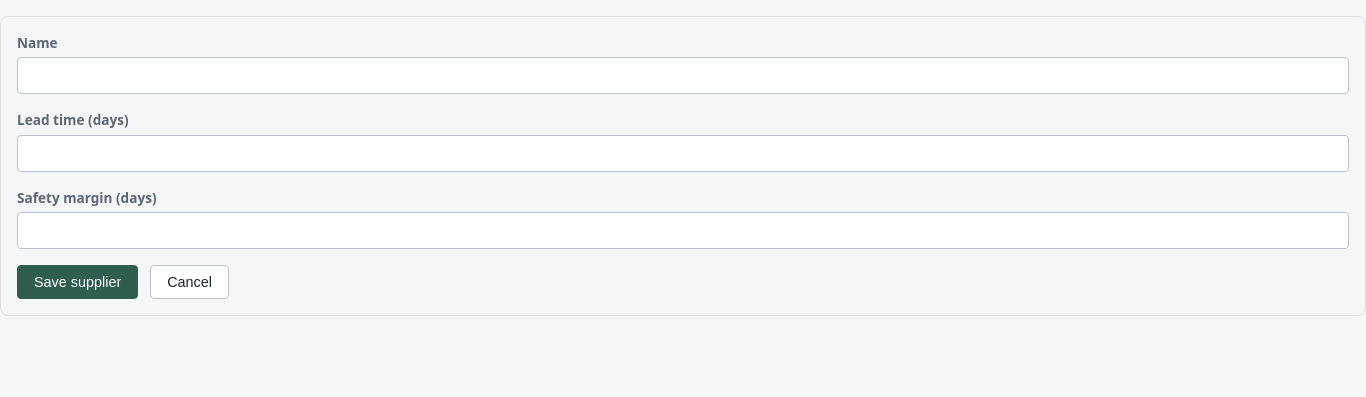
Test: SupplierForm › blocks submit with an inline error when name is empty
Type "3" into the number field labelled "Lead time (days)" at (683, 153), box x1=17 y1=135 x2=1349 y2=172
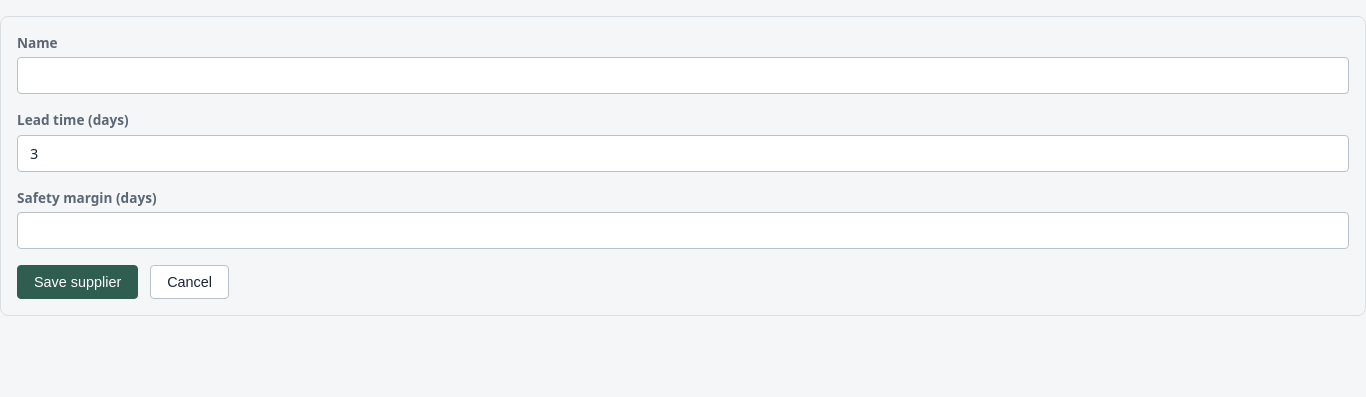
Click the button "Save supplier" at (78, 282), box x1=17 y1=265 x2=138 y2=299
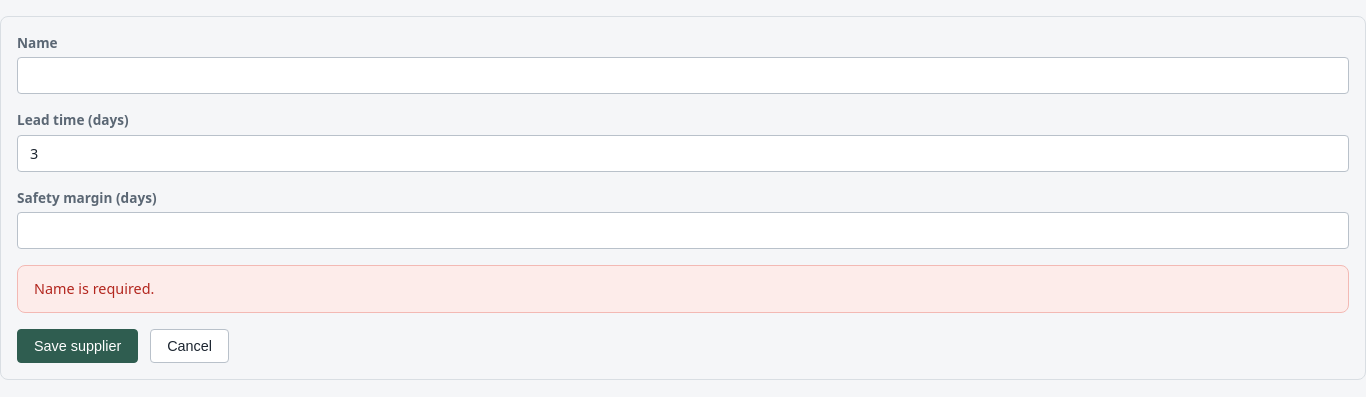
Check: the message shows "Name is required", box x1=34 y1=279 x2=154 y2=298
